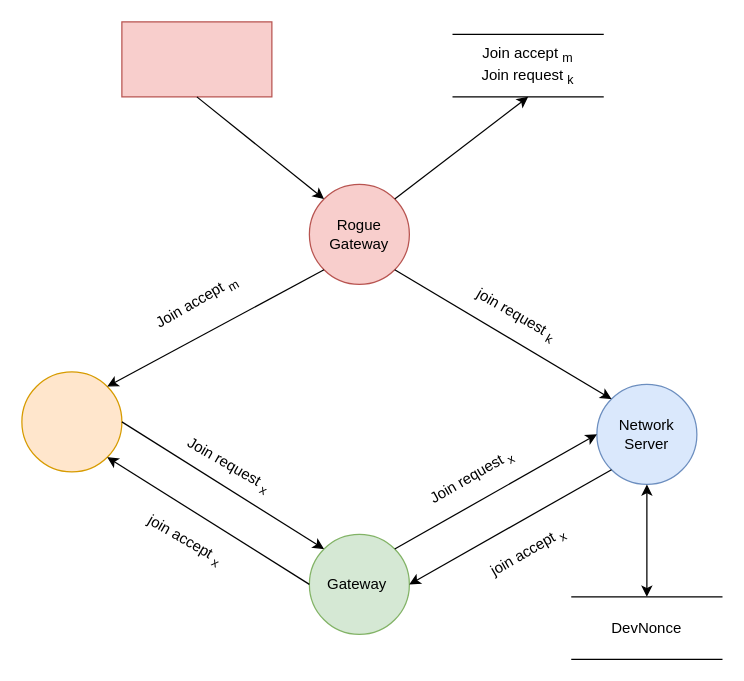
The diagram is 744 pixels wide and 681 high, and some of its shapes have lost their labels. Here are the shapes that lost their labels. From the top down, the centre of each, then its label:
point (196, 59): MITM Operator
point (71, 421): End device
